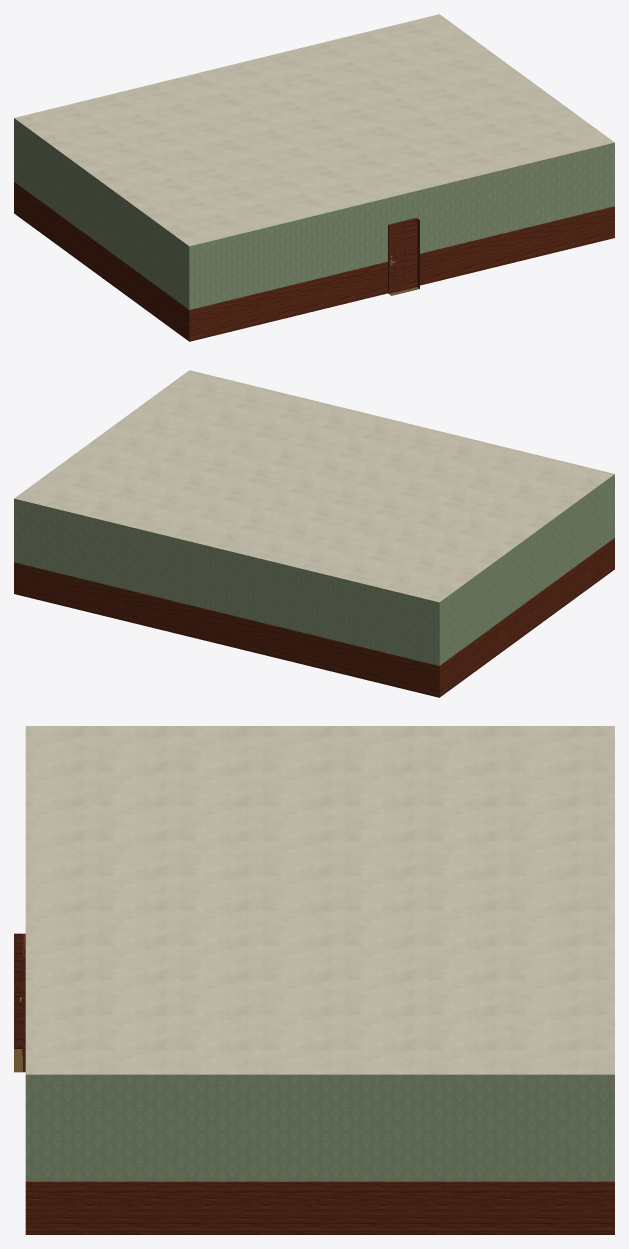
Rendered from key_room.glb.
3 views of the same model, one above another, from view 1: azimuth 30°, elevation 25°; view 2: azimuth 150°, elevation 25°; view 3: azimuth 270°, elevation 25° (orthographic). The views are drawn at different scales.
Visible parts, largest first — view 1: Ceiling_Hall.001, Wall_Hall.001, Wainscot.001, DoorLeaf_floor_2; view 2: Ceiling_Hall.001, Wall_Hall.001, Wainscot.001; view 3: Ceiling_Hall.001, Wall_Hall.001, Wainscot.001, Door_Jamb.001.
Part boxes in pixels (x1,y1,x2,y2): Ceiling_Hall.001: (14, 14, 614, 246); Wall_Hall.001: (14, 118, 614, 309); Wainscot.001: (14, 182, 614, 341); DoorLeaf_floor_2: (388, 218, 417, 293); Ceiling_Hall.001: (14, 370, 614, 602); Wall_Hall.001: (14, 474, 614, 665); Wainscot.001: (14, 538, 614, 697); Ceiling_Hall.001: (25, 726, 614, 1074); Wall_Hall.001: (25, 1074, 614, 1181); Wainscot.001: (25, 1181, 614, 1234); Door_Jamb.001: (14, 933, 25, 1048).
Size of the model in its own units: 14 by 3 by 10.2.
Materials: 28 (20 with a texture image).
